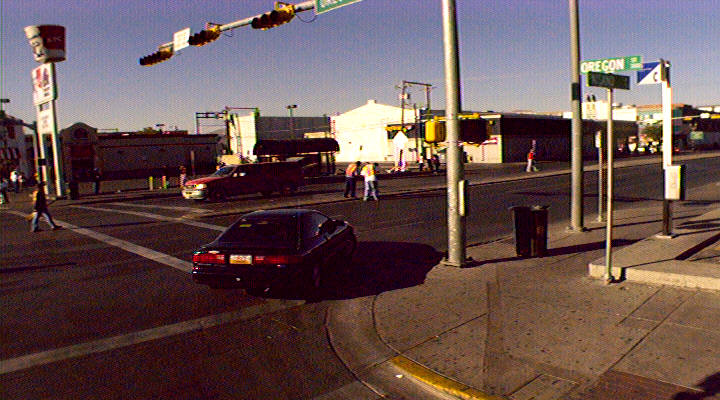Ramp: (358, 263, 561, 383)
